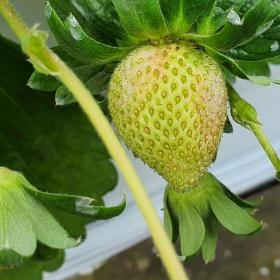Powdery Mildew Fruit: (106, 40, 228, 193)
